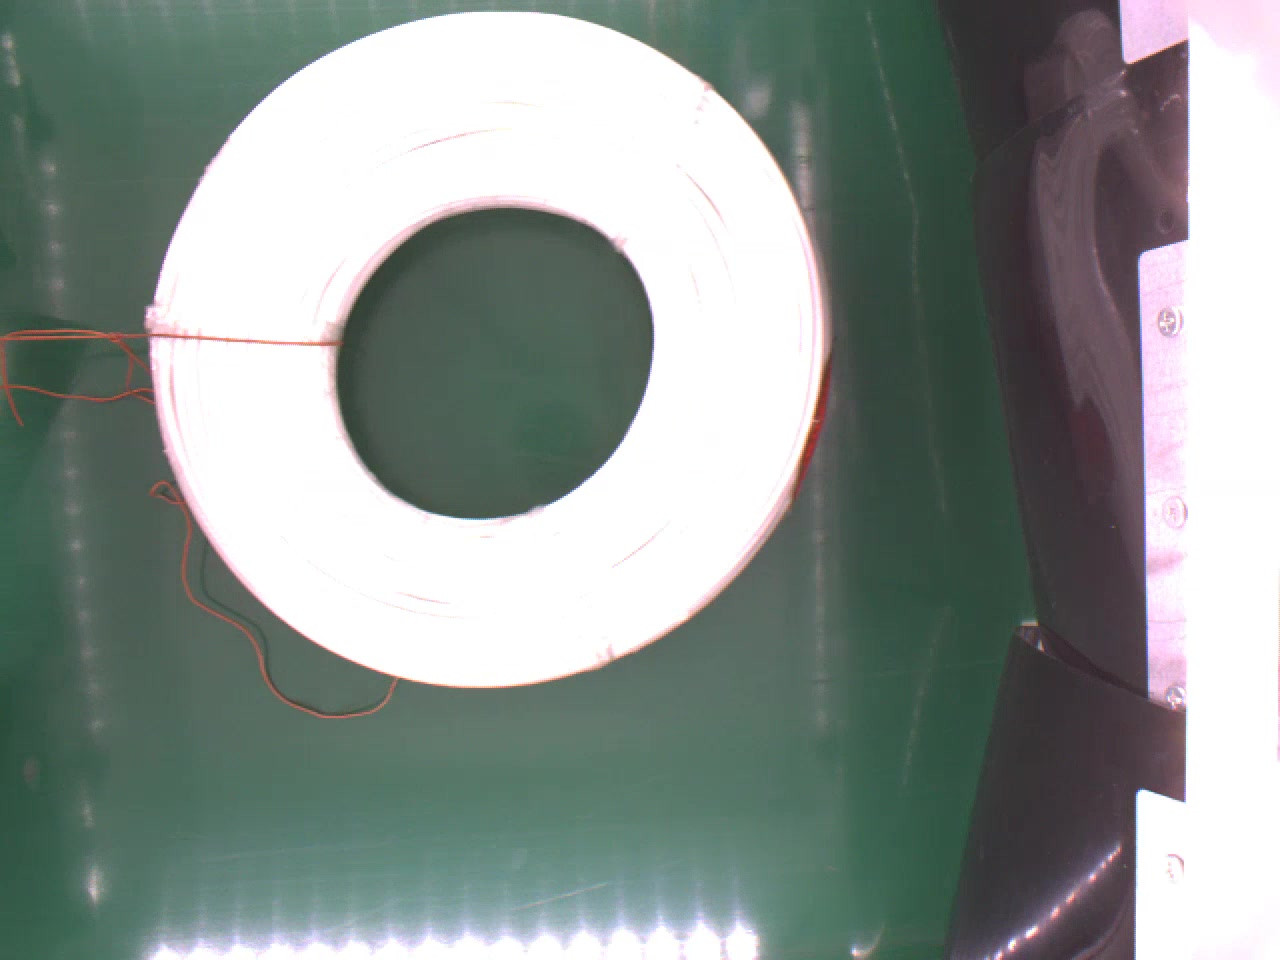white: (142, 9, 833, 688)
